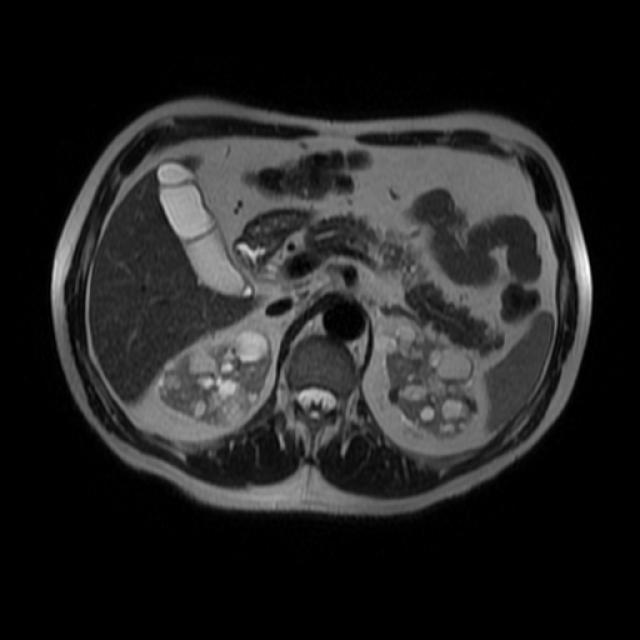sag: (154, 326, 271, 426)
sol: (374, 303, 477, 442)
